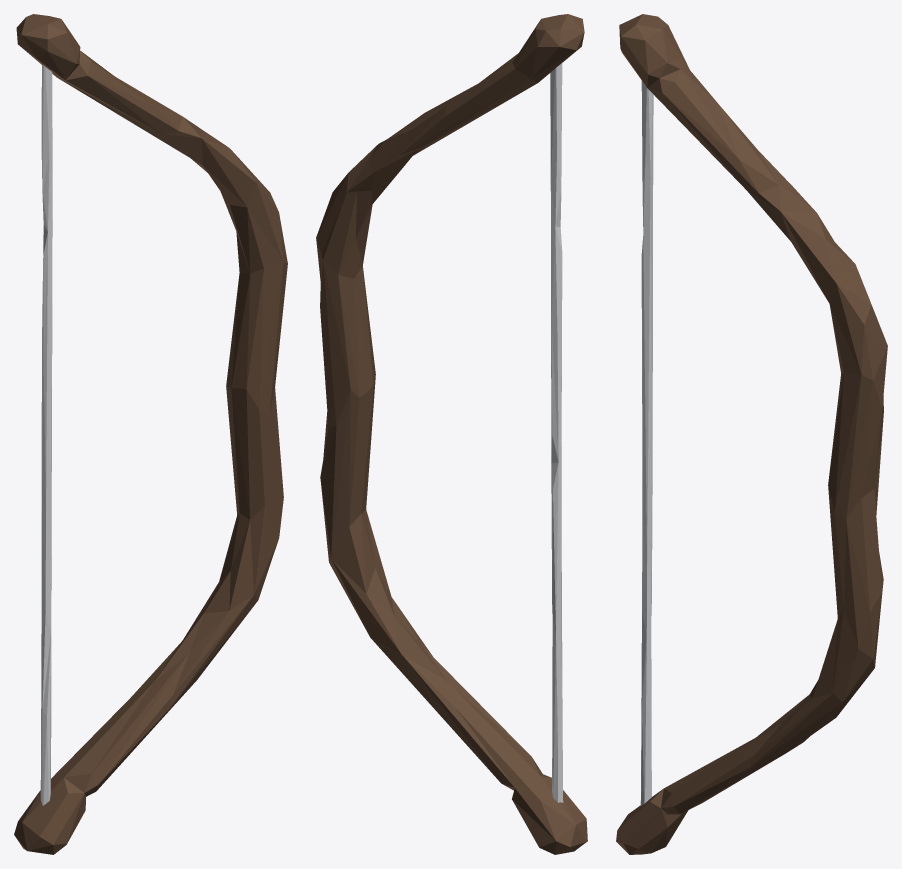
The model's file is bow.glb.
The picture shows the model from 3 angles, left to right: view 1: azimuth 30°, elevation 25°; view 2: azimuth 150°, elevation 25°; view 3: azimuth 330°, elevation 25°; orthographic projection.
Parts seen in each view (by area): view 1: Cube, NurbsPath; view 2: Cube, NurbsPath; view 3: Cube, NurbsPath.
Part boxes in pixels (box(x1,y1,x2,y2)): Cube: box(14, 14, 287, 854); NurbsPath: box(40, 65, 52, 805); Cube: box(316, 14, 587, 854); NurbsPath: box(550, 63, 563, 802); Cube: box(616, 14, 887, 854); NurbsPath: box(640, 80, 653, 805).
Bounding box in the file's own units: 0.332 × 1.01 × 0.068.
